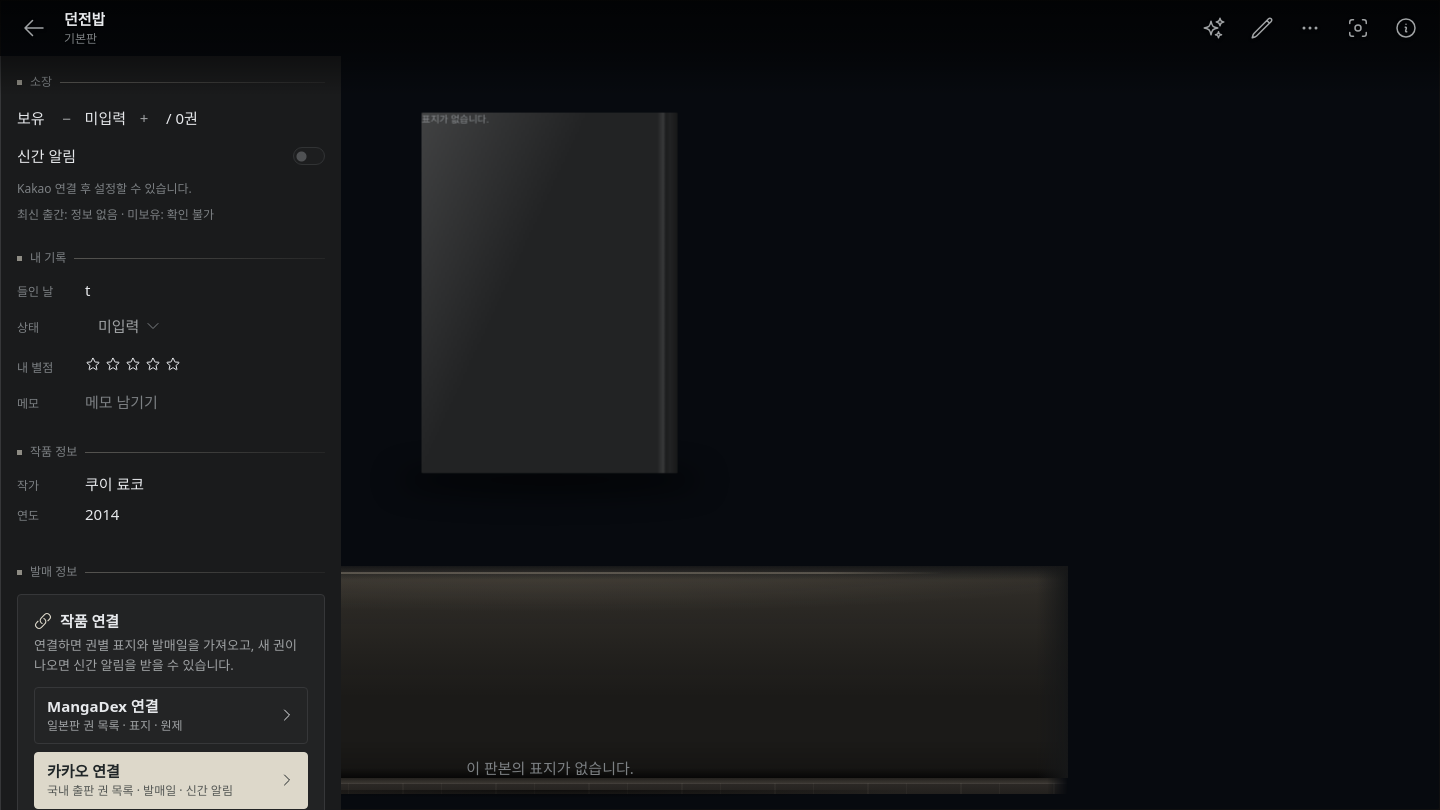
CollectionOverlay MangaDex flow › retains editing, Showcase, imports, release refresh and deletion actions
Click the button named "편집".
click(1262, 28)  # box x1=1244 y1=10 x2=1280 y2=46
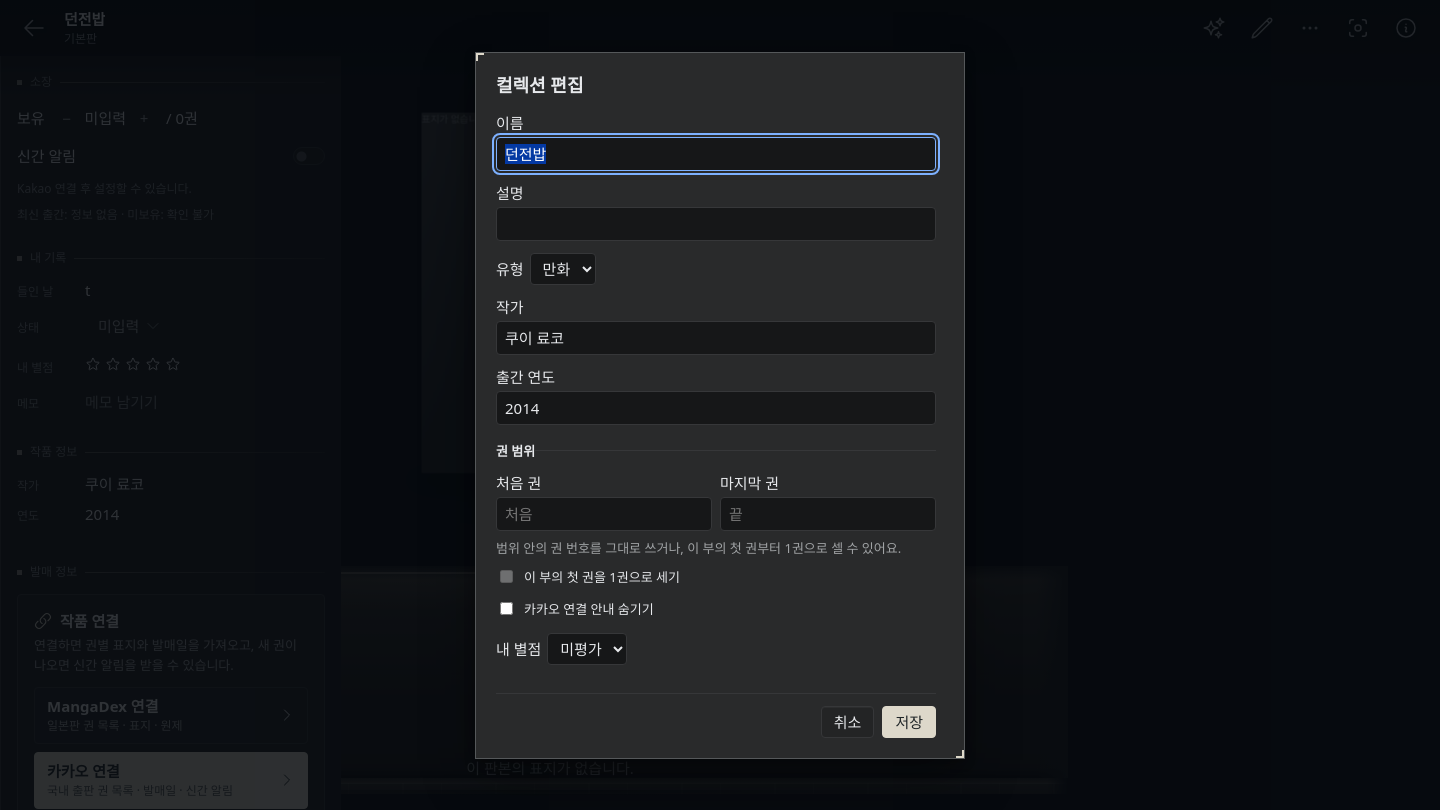
expect the dialog "컬렉션 편집" is shown: met, box x1=475 y1=52 x2=965 y2=758
Click the button "저장".
click(909, 722)  # box x1=882 y1=706 x2=936 y2=738
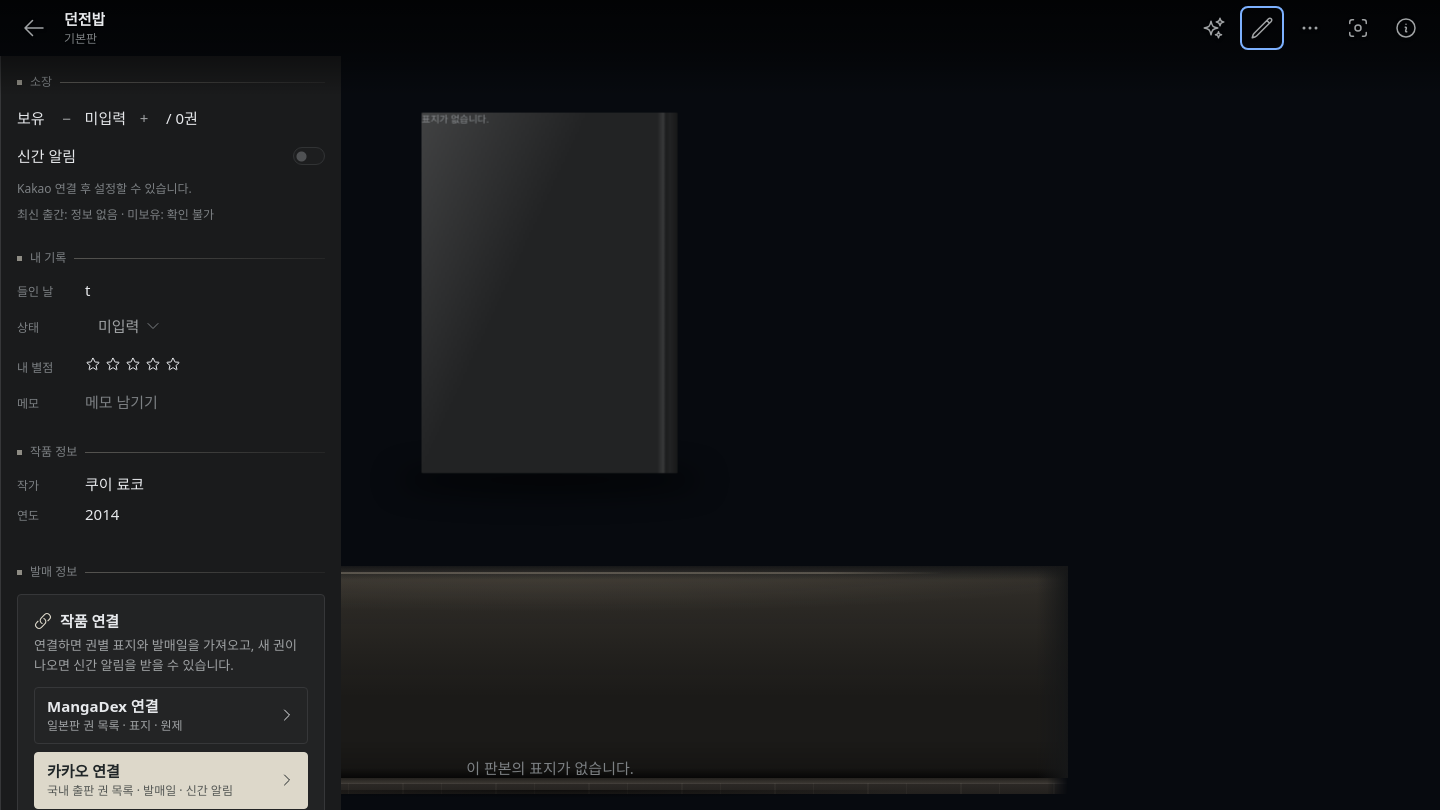
Click the button named "쇼케이스".
click(1214, 28)  # box x1=1196 y1=10 x2=1232 y2=46
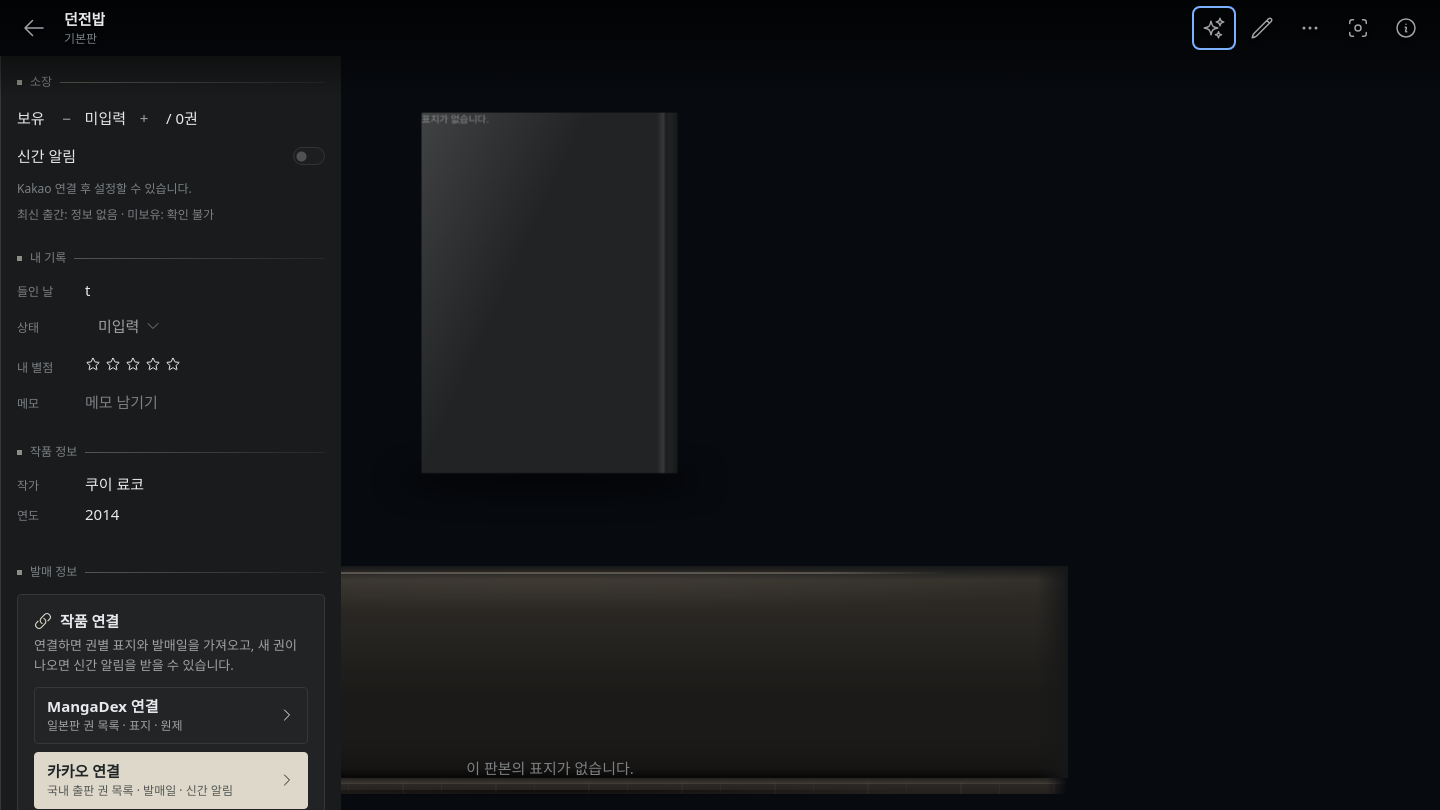
Click the button named "작품 관리".
click(1310, 28)  # box x1=1292 y1=10 x2=1328 y2=46
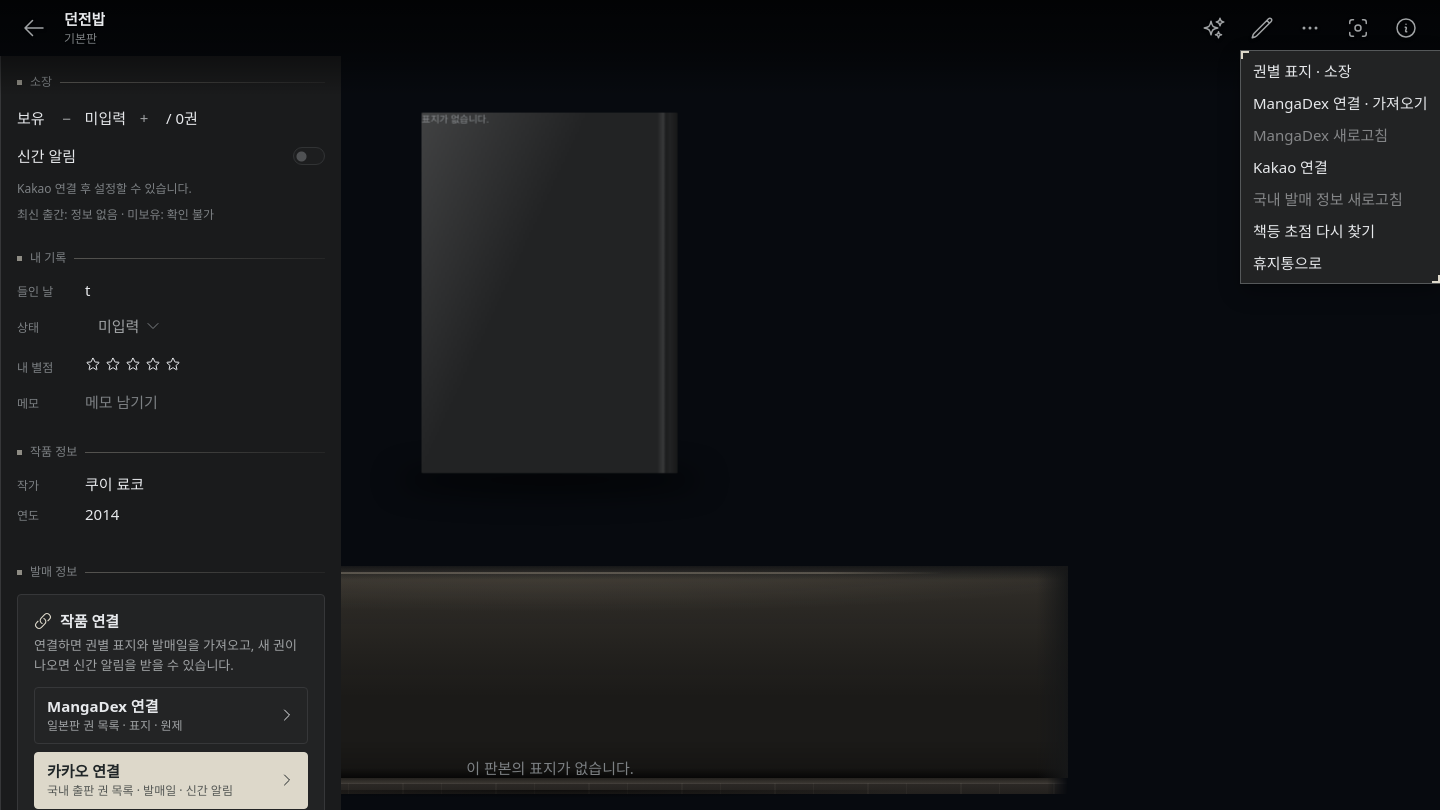
expect the menu item "권별 표지 · 소장" is shown: met, box x1=1245 y1=55 x2=1436 y2=87
expect the menu item "MangaDex 연결 · 가져오기" is shown: met, box x1=1245 y1=87 x2=1436 y2=119
expect the menu item "MangaDex 새로고침" is shown: met, box x1=1245 y1=119 x2=1436 y2=151
